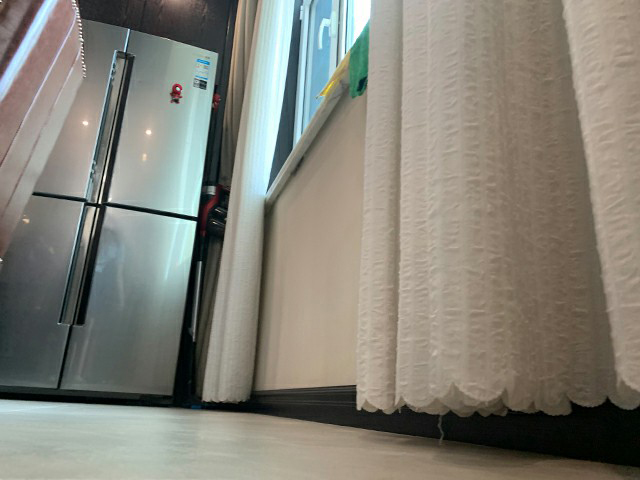curtain: (356, 1, 640, 417), (198, 1, 294, 402)
